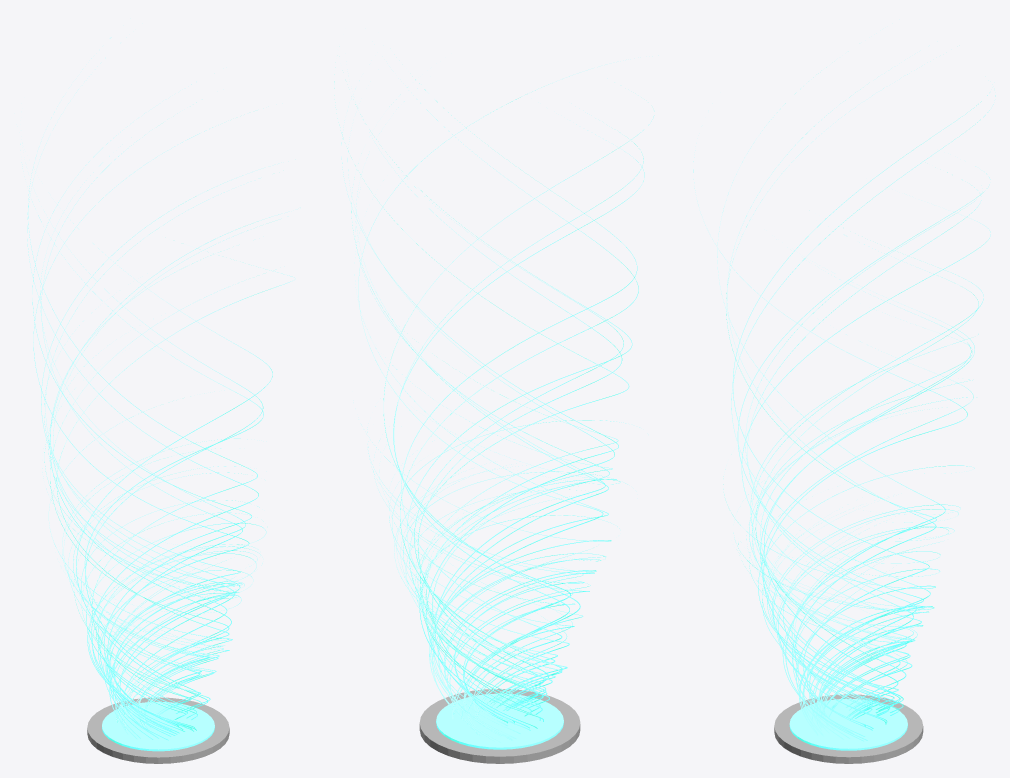
The model's file is Teleportation portal.fbx.
The picture shows the model from 3 angles, left to right: view 1: azimuth 30°, elevation 25°; view 2: azimuth 150°, elevation 25°; view 3: azimuth 270°, elevation 25°; orthographic projection. The views are drawn at different scales.
Parts seen in each view (by area): view 1: Extrusion_contrôlée, Tube, Tube_1; view 2: Extrusion_contrôlée, Tube, Tube_1; view 3: Extrusion_contrôlée, Tube, Tube_1.
Boxes of the visible parts, <box> form: Extrusion_contrôlée: <box>20,37,294,740</box>; Tube: <box>102,701,214,751</box>; Tube_1: <box>87,697,229,763</box>; Extrusion_contrôlée: <box>334,67,654,742</box>; Tube: <box>436,693,563,749</box>; Tube_1: <box>419,688,580,763</box>; Extrusion_contrôlée: <box>693,67,995,741</box>; Tube: <box>789,698,907,750</box>; Tube_1: <box>774,694,923,763</box>.
Size of the model in its own units: 413 by 1026 by 406.
